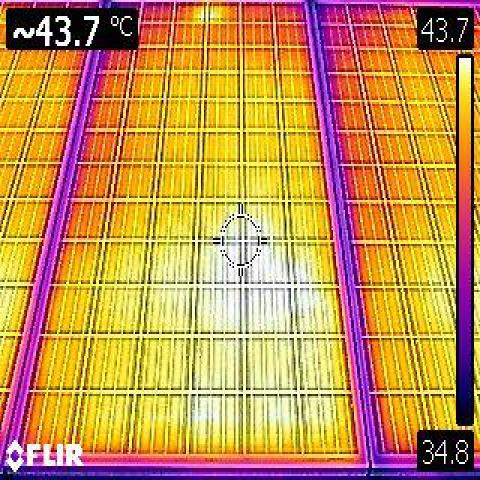fault: (194, 283, 334, 435), (194, 5, 224, 25)
